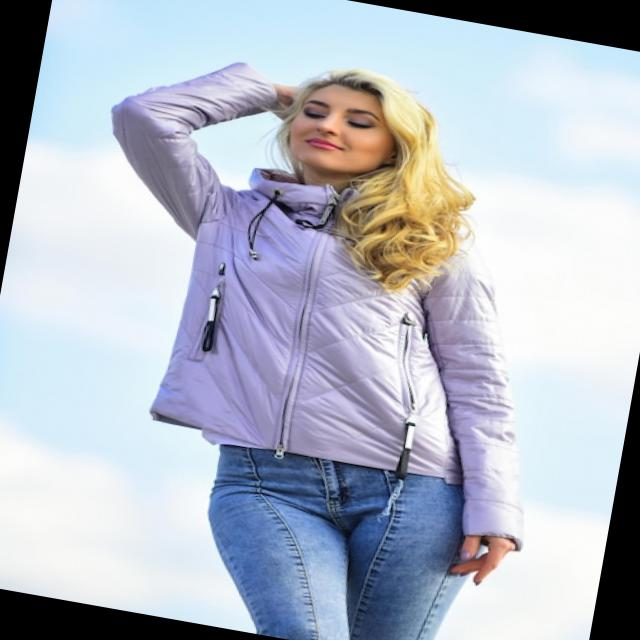Jacket: (21, 118, 610, 572)
